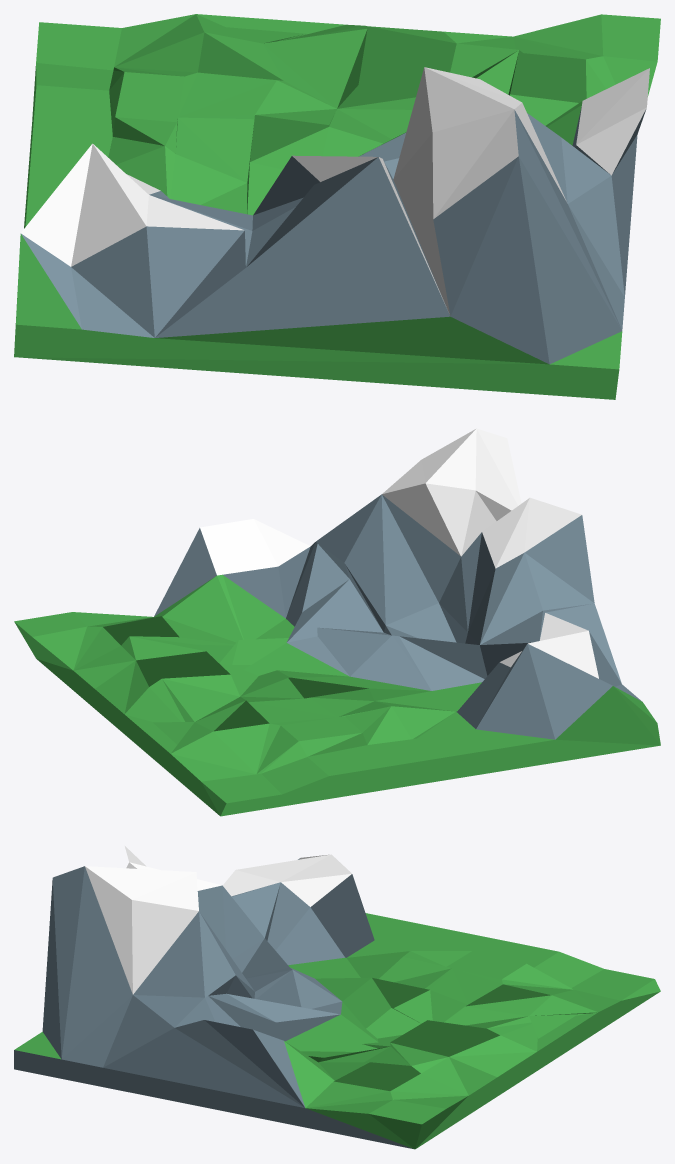
Rendered from Mountain Scene by Mike Boyer - erukwNZWue-.glb.
3 renders of one model, top to bottom at view 1: azimuth 30°, elevation 25°; view 2: azimuth 150°, elevation 25°; view 3: azimuth 270°, elevation 25°, orthographic. The views are drawn at different scales.
Parts seen in each view (by area): view 1: Node; view 2: Node; view 3: Node.
Part boxes in pixels (x1,y1,x2,y2): Node: (14,14,660,399); Node: (14,428,660,816); Node: (14,846,660,1149).
Bounding box in the file's own units: 1.41 × 0.4695 × 1.48.
